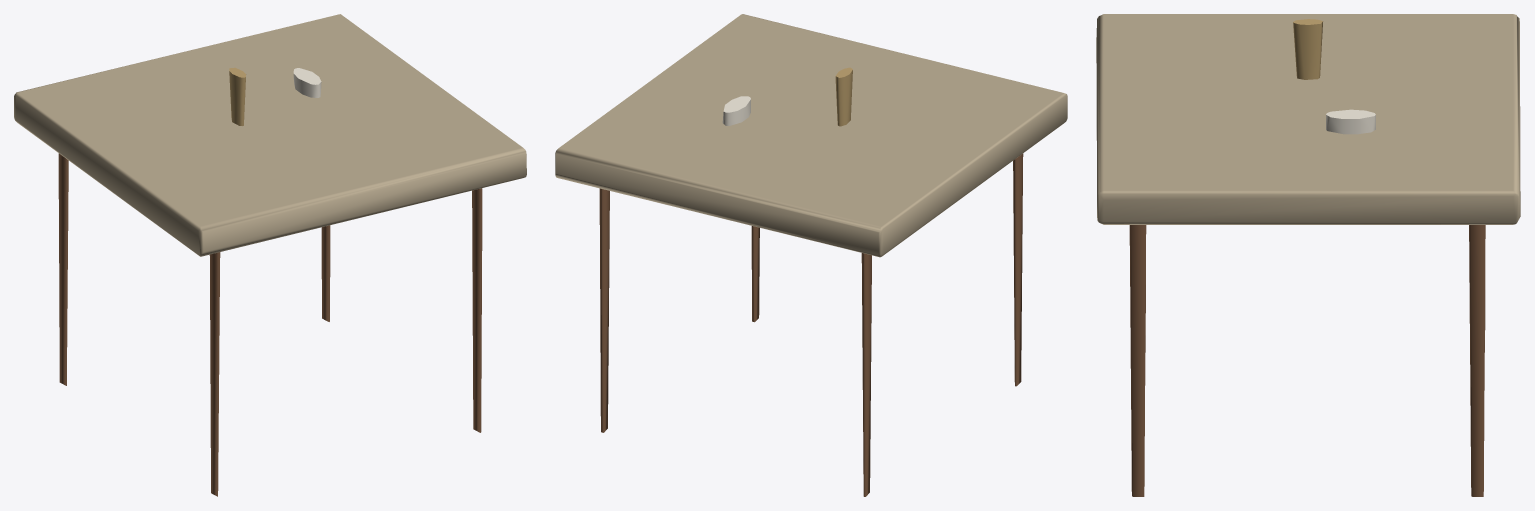
Rendered from meeting-table.lod.glb.
3 renders of one model, left to right at view 1: azimuth 30°, elevation 25°; view 2: azimuth 150°, elevation 25°; view 3: azimuth 270°, elevation 25°, orthographic. The views are drawn at different scales.
Parts seen in each view (by area): view 1: upholstery, part (×3); view 2: upholstery, part (×3); view 3: upholstery, part (×3).
Part boxes in pixels (x1,y1,x2,y2): upholstery: [14, 14, 526, 256]; part (×3): [58, 67, 482, 496]; upholstery: [555, 14, 1067, 257]; part (×3): [599, 67, 1023, 496]; upholstery: [1096, 14, 1520, 224]; part (×3): [1129, 19, 1485, 496].
Size of the model in its own units: 1 by 1 by 1.
